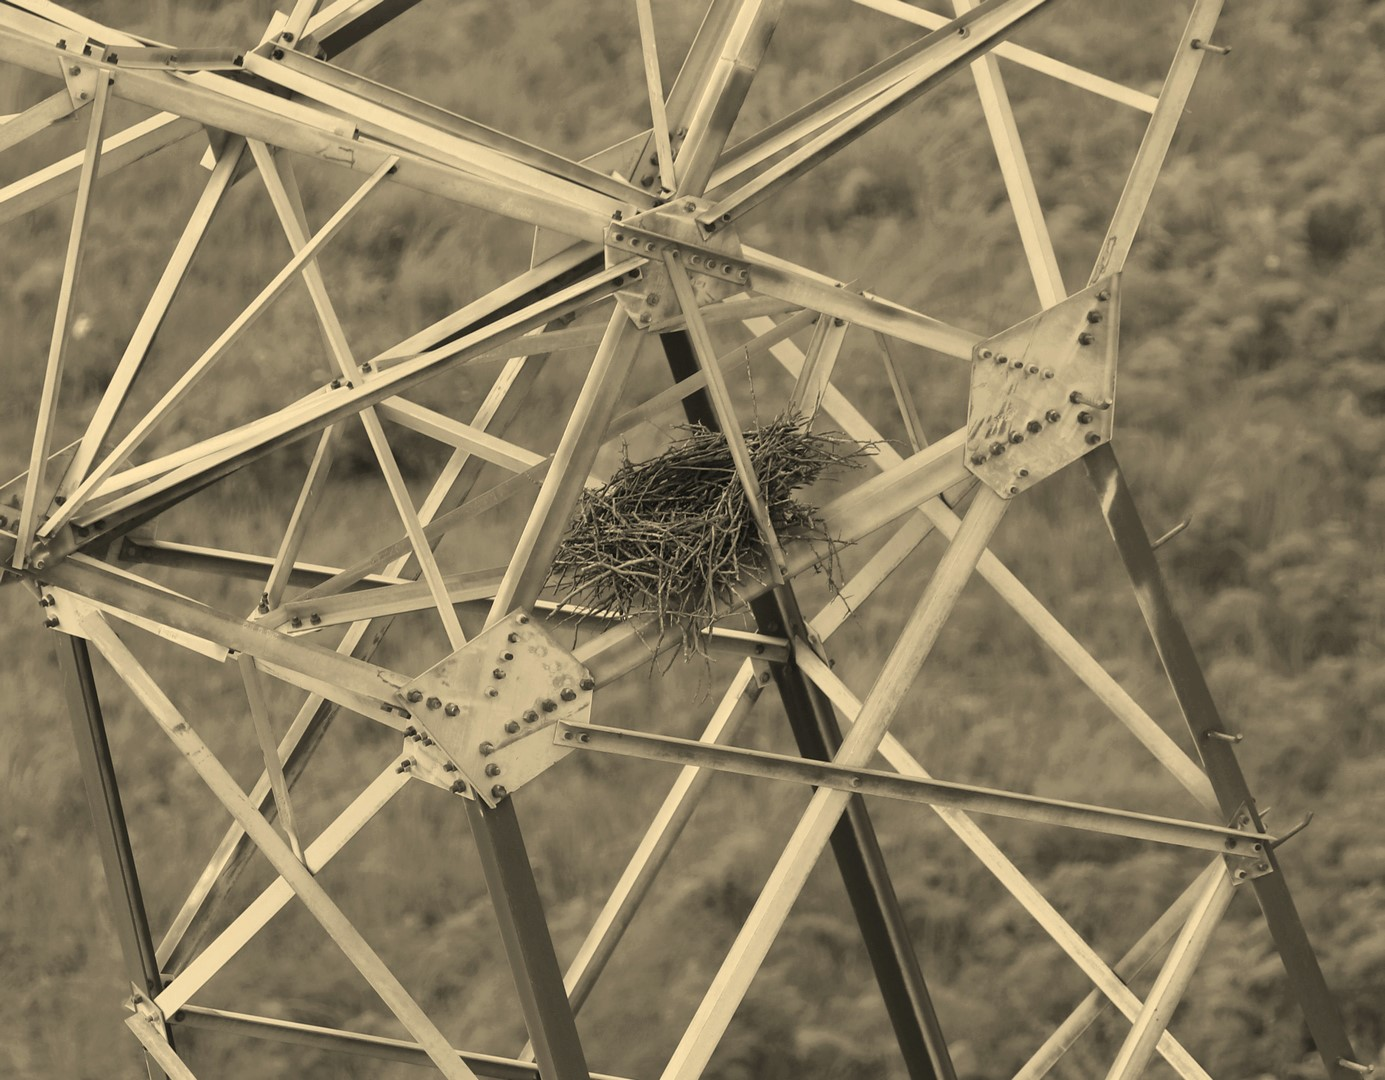niaowo: (556, 380, 857, 647)
